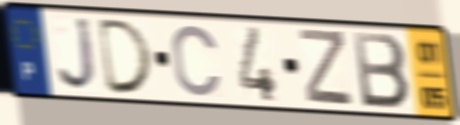4: (236, 24, 279, 105)
B: (350, 29, 413, 112)
C: (169, 22, 224, 100)
D: (96, 17, 157, 96)
J: (55, 15, 100, 94)
Z: (297, 27, 356, 110)
